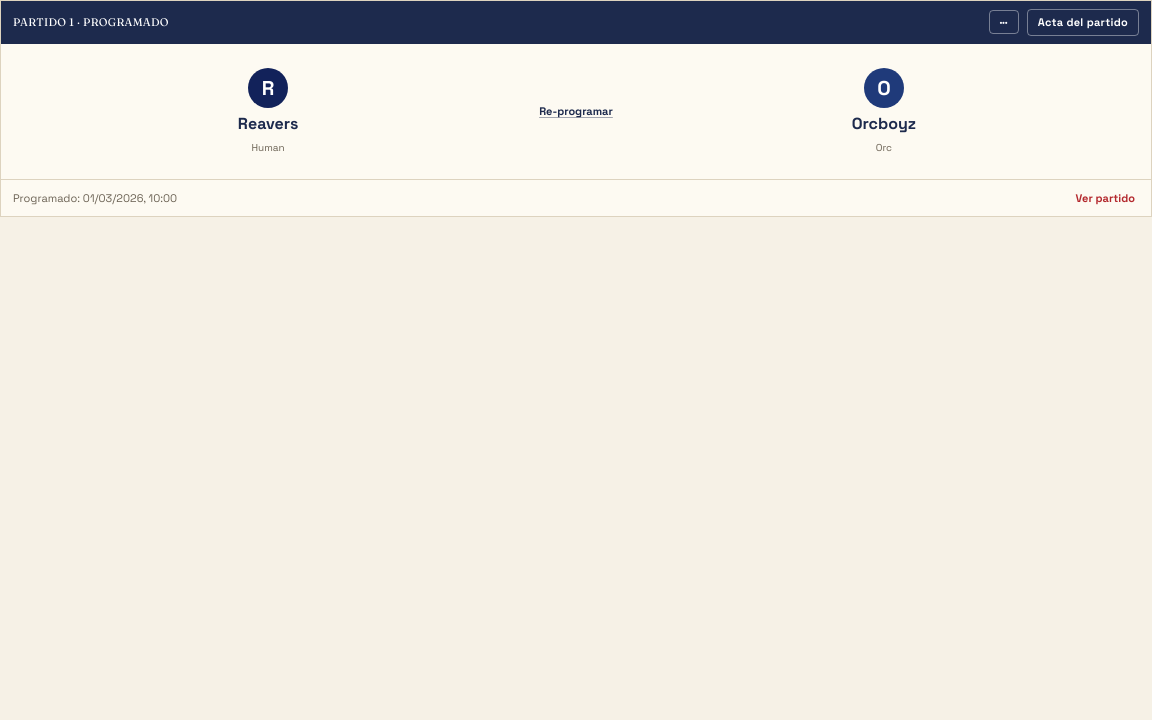
it: MatchCard — ··· overflow menu (MAW-1) › closes the menu when clicking outside it
Click the button named "Más acciones": (1004, 22) [989,10,1019,34]
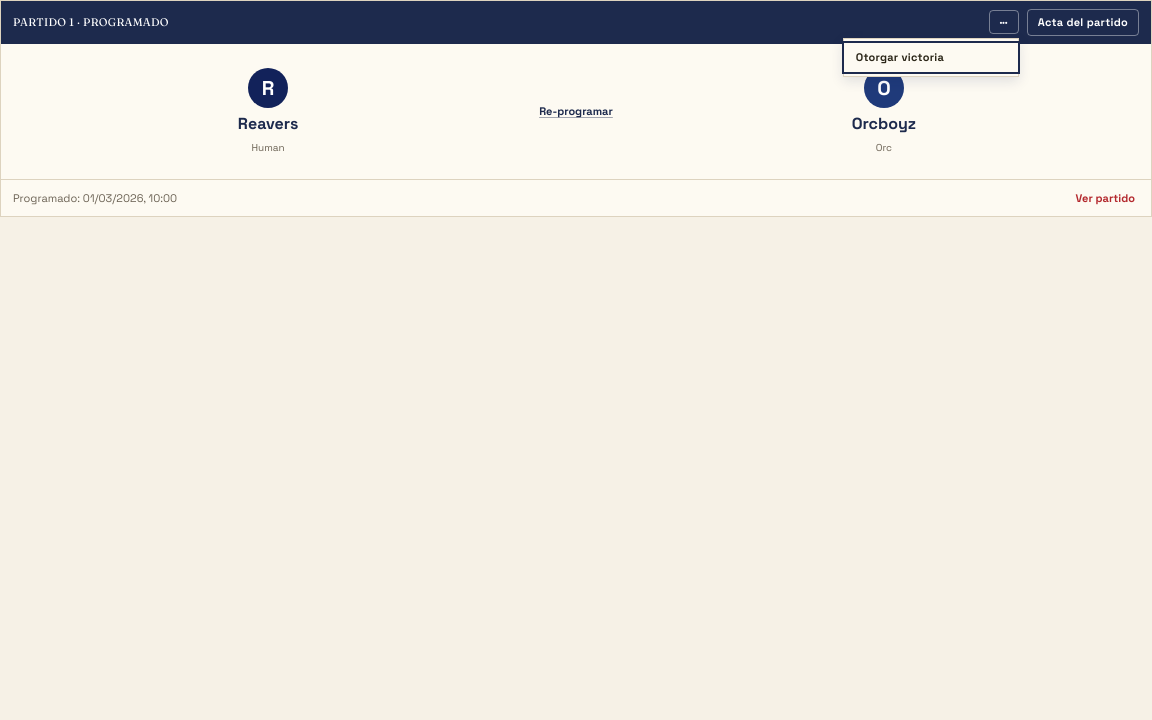
Now the menu is shown, box [843,38,1019,77]
Press the mouse on the element that starts with "Partido 1 · Programado": (576, 360) [0,0,1151,719]
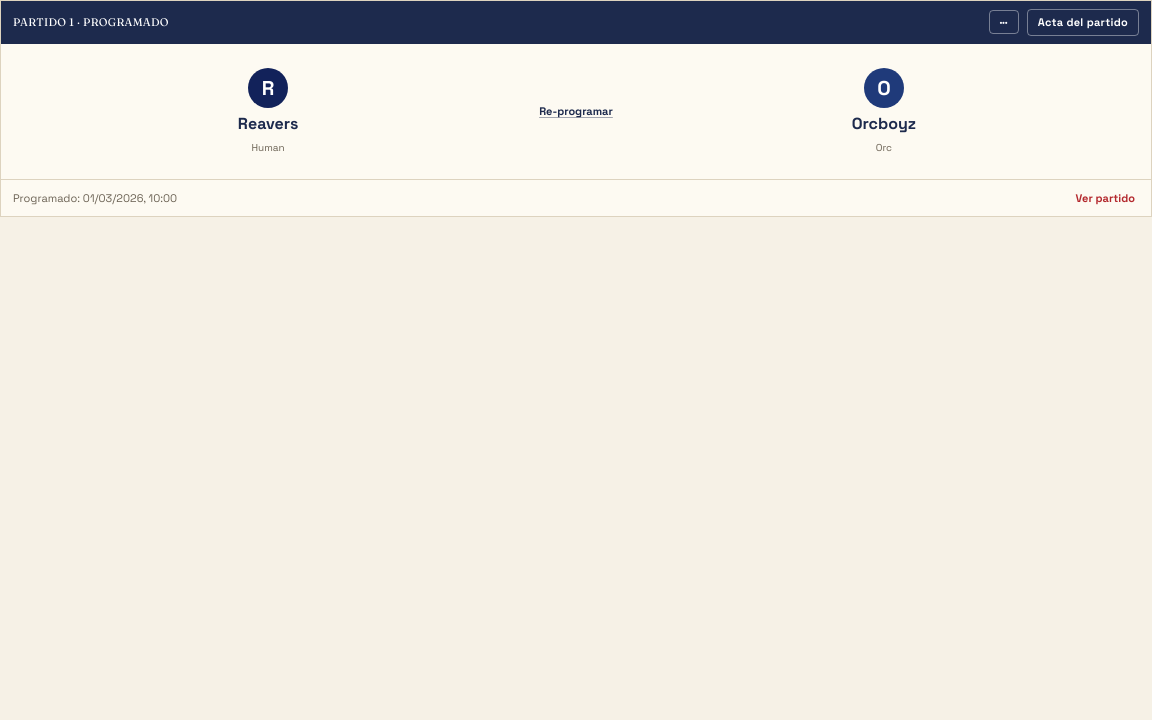
Now the menu is gone
